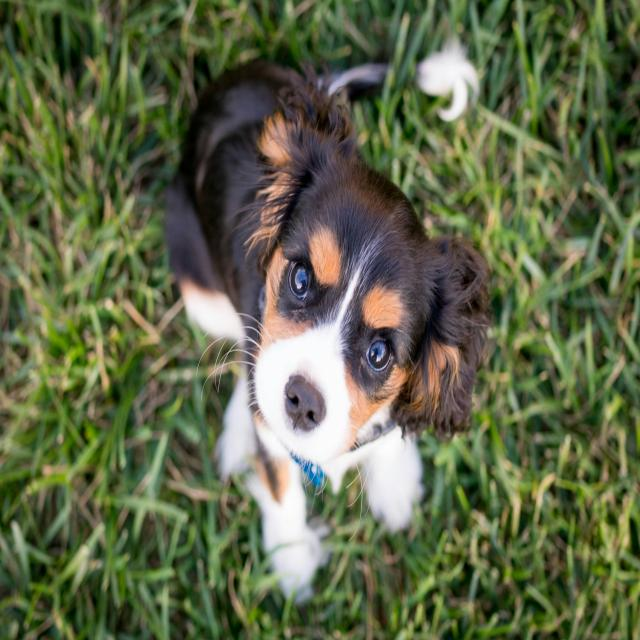dog: (213, 52, 501, 512)
